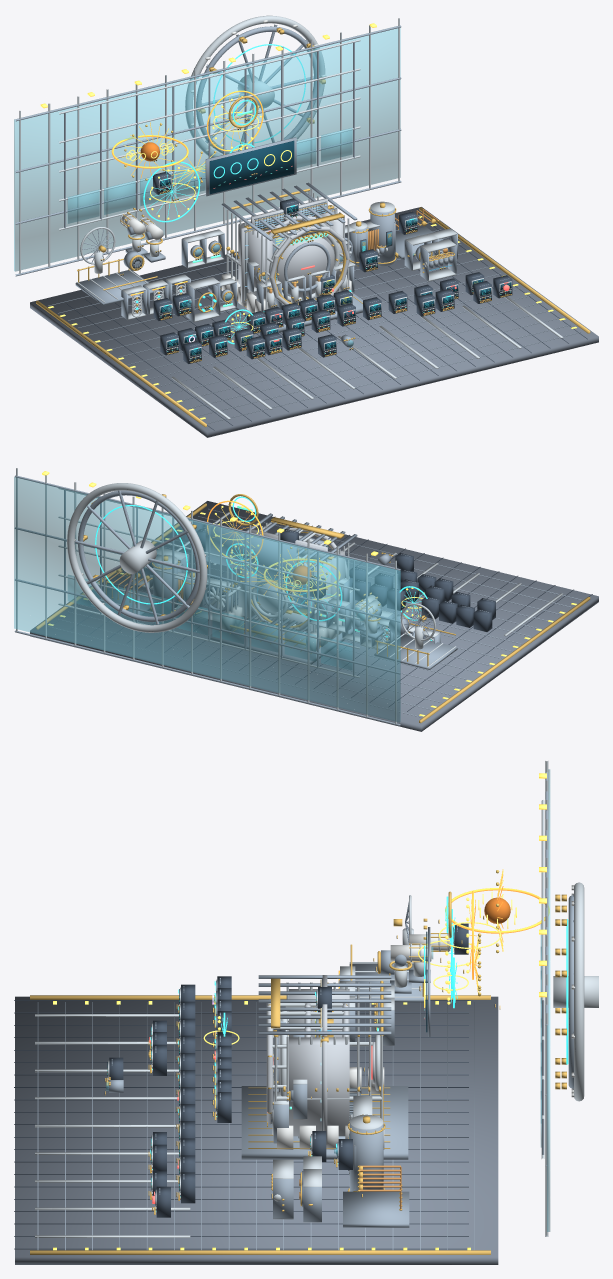
The model's file is Level89_Complete_ArtKit_Showcase.glb.
3 views of the same model, one above another, from view 1: azimuth 30°, elevation 25°; view 2: azimuth 150°, elevation 25°; view 3: azimuth 270°, elevation 25° (orthographic). The views are drawn at different scales.
Parts seen in each view (by area): view 1: L87_SolarStormPanoramicObserv_Part_0000, L87_HeliosRadiationDefenseAre_Part_0000, L87_HeliosRadiationDefenseAre_Part_0003, L87_SolarStormPanoramicObserv_Part_0001, L87_EarthAndHabitatObservatio_Part_0002, L87_SolarStormPanoramicObserv_Part_0002, L87_EarthAndHabitatObservatio_Part_0001, L87_RadiationDefenseSCADA_Part_0001, L87_OrbitalStationHabitatExte_Part_0000, L87_OrbitalStationHabitatExte_Part_0001, L87_StormShelterPressureHull_Part_0001, L87_HeliosRadiationDefenseAre_Part_0001 (+15 smaller); view 2: L87_SolarStormPanoramicObserv_Part_0000, L87_HeliosRadiationDefenseAre_Part_0000, L87_SolarStormPanoramicObserv_Part_0001, L87_OrbitalStationHabitatExte_Part_0000, L87_EarthAndHabitatObservatio_Part_0002, L87_OrbitalStationHabitatExte_Part_0001, L87_SolarStormPanoramicObserv_Part_0002, L87_HeliosRadiationDefenseAre_Part_0003, L87_EarthAndHabitatObservatio_Part_0001, L87_RadiationDefenseSCADA_Part_0000, L87_EarthAndHabitatObservatio_Part_0000, L87_StormShelterInteriorSuppo_Part_0000 (+20 smaller); view 3: L87_HeliosRadiationDefenseAre_Part_0000, L87_HeliosRadiationDefenseAre_Part_0001, L87_StormShelterPressureHull_Part_0001, L87_StormShelterInteriorSuppo_Part_0000, L87_HeliosRadiationDefenseAre_Part_0007, L87_WaterWallStructuralContai_Part_0003, L87_HeliosRadiationDefenseAre_Part_0004, L87_HeliosRadiationDefenseAre_Part_0003, L87_OrbitalStationHabitatExte_Part_0000, L87_StationShieldWaterUtility_Part_0000, L87_WaterReservoirMain_Part_0000, L87_SolarStormPanoramicObserv_Part_0000 (+13 smaller).
Boxes of the visible parts, x1,y1,x2,y2 form: L87_SolarStormPanoramicObserv_Part_0000: (14, 28, 400, 271); L87_HeliosRadiationDefenseAre_Part_0000: (30, 207, 598, 437); L87_HeliosRadiationDefenseAre_Part_0003: (48, 215, 581, 423); L87_SolarStormPanoramicObserv_Part_0001: (19, 18, 399, 274); L87_EarthAndHabitatObservatio_Part_0002: (67, 128, 352, 223); L87_SolarStormPanoramicObserv_Part_0002: (15, 25, 401, 276); L87_EarthAndHabitatObservatio_Part_0001: (59, 39, 360, 230); L87_RadiationDefenseSCADA_Part_0001: (209, 140, 294, 194); L87_OrbitalStationHabitatExte_Part_0000: (185, 15, 325, 157); L87_OrbitalStationHabitatExte_Part_0001: (196, 24, 319, 153); L87_StormShelterPressureHull_Part_0001: (238, 211, 349, 305); L87_HeliosRadiationDefenseAre_Part_0001: (66, 235, 550, 430); L87_SolarStormPanoramicObserv_Part_0000: (14, 477, 400, 722); L87_HeliosRadiationDefenseAre_Part_0000: (30, 501, 598, 731); L87_SolarStormPanoramicObserv_Part_0001: (16, 468, 396, 723); L87_OrbitalStationHabitatExte_Part_0000: (67, 483, 207, 632); L87_EarthAndHabitatObservatio_Part_0002: (68, 575, 352, 669); L87_OrbitalStationHabitatExte_Part_0001: (75, 490, 199, 624); L87_SolarStormPanoramicObserv_Part_0002: (14, 475, 400, 726); L87_HeliosRadiationDefenseAre_Part_0003: (48, 508, 581, 717); L87_EarthAndHabitatObservatio_Part_0001: (58, 488, 359, 677); L87_RadiationDefenseSCADA_Part_0000: (205, 525, 296, 582); L87_EarthAndHabitatObservatio_Part_0000: (64, 490, 354, 675); L87_StormShelterInteriorSuppo_Part_0000: (208, 609, 356, 664); L87_HeliosRadiationDefenseAre_Part_0000: (15, 996, 498, 1264); L87_HeliosRadiationDefenseAre_Part_0001: (14, 1000, 468, 1224); L87_StormShelterPressureHull_Part_0001: (266, 989, 349, 1136); L87_StormShelterInteriorSuppo_Part_0000: (241, 1086, 408, 1159); L87_HeliosRadiationDefenseAre_Part_0007: (35, 1014, 190, 1237); L87_WaterWallStructuralContai_Part_0003: (258, 975, 391, 1034); L87_HeliosRadiationDefenseAre_Part_0004: (30, 995, 490, 1254); L87_HeliosRadiationDefenseAre_Part_0003: (37, 1002, 474, 1250); L87_OrbitalStationHabitatExte_Part_0000: (553, 882, 598, 1101); L87_StationShieldWaterUtility_Part_0000: (343, 1191, 409, 1227); L87_WaterReservoirMain_Part_0000: (349, 1122, 383, 1191); L87_SolarStormPanoramicObserv_Part_0000: (547, 769, 550, 1231).
Size of the model in its own units: 32.5 by 19.4 by 30.85.
